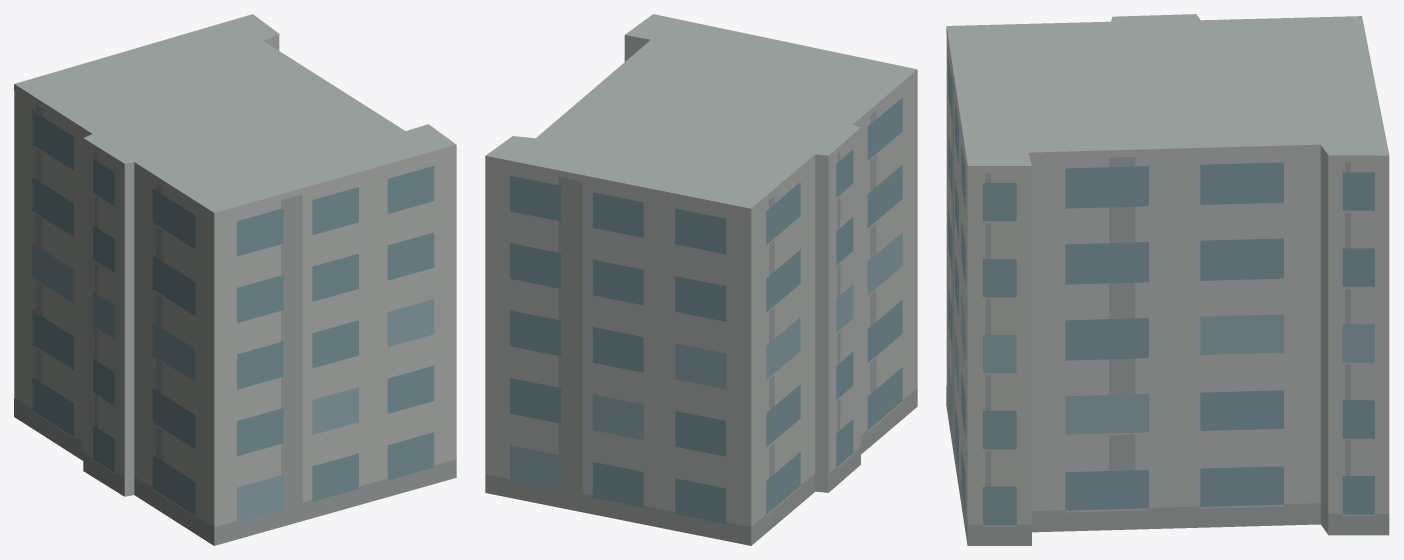
The model's file is survey-upis-32888565.glb.
3 renders of one model, left to right at view 1: azimuth 30°, elevation 25°; view 2: azimuth 150°, elevation 25°; view 3: azimuth 270°, elevation 25°, orthographic. The views are drawn at different scales.
Visible parts, largest first — view 1: survey-upis-32888565.tmp; view 2: survey-upis-32888565.tmp; view 3: survey-upis-32888565.tmp.
Part boxes in pixels (bbox=[...]): survey-upis-32888565.tmp: bbox=[14, 14, 456, 545]; survey-upis-32888565.tmp: bbox=[485, 14, 917, 545]; survey-upis-32888565.tmp: bbox=[946, 14, 1389, 545].
Bounding box in the file's own units: 11.18 × 13 × 13.75.
